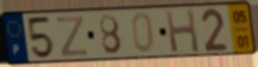0: (129, 11, 156, 56)
2: (200, 6, 231, 54)
5: (25, 14, 57, 60)
8: (97, 13, 123, 56)
H: (163, 7, 202, 55)
Z: (55, 14, 89, 58)
